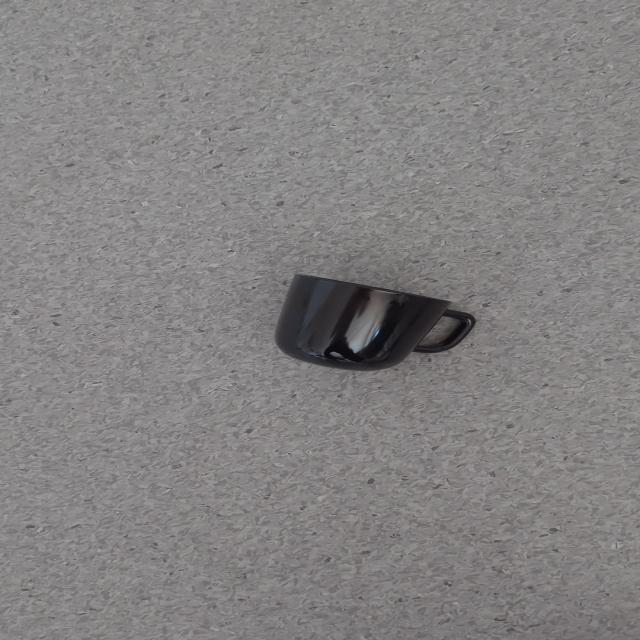mug: (273, 273, 475, 371)
